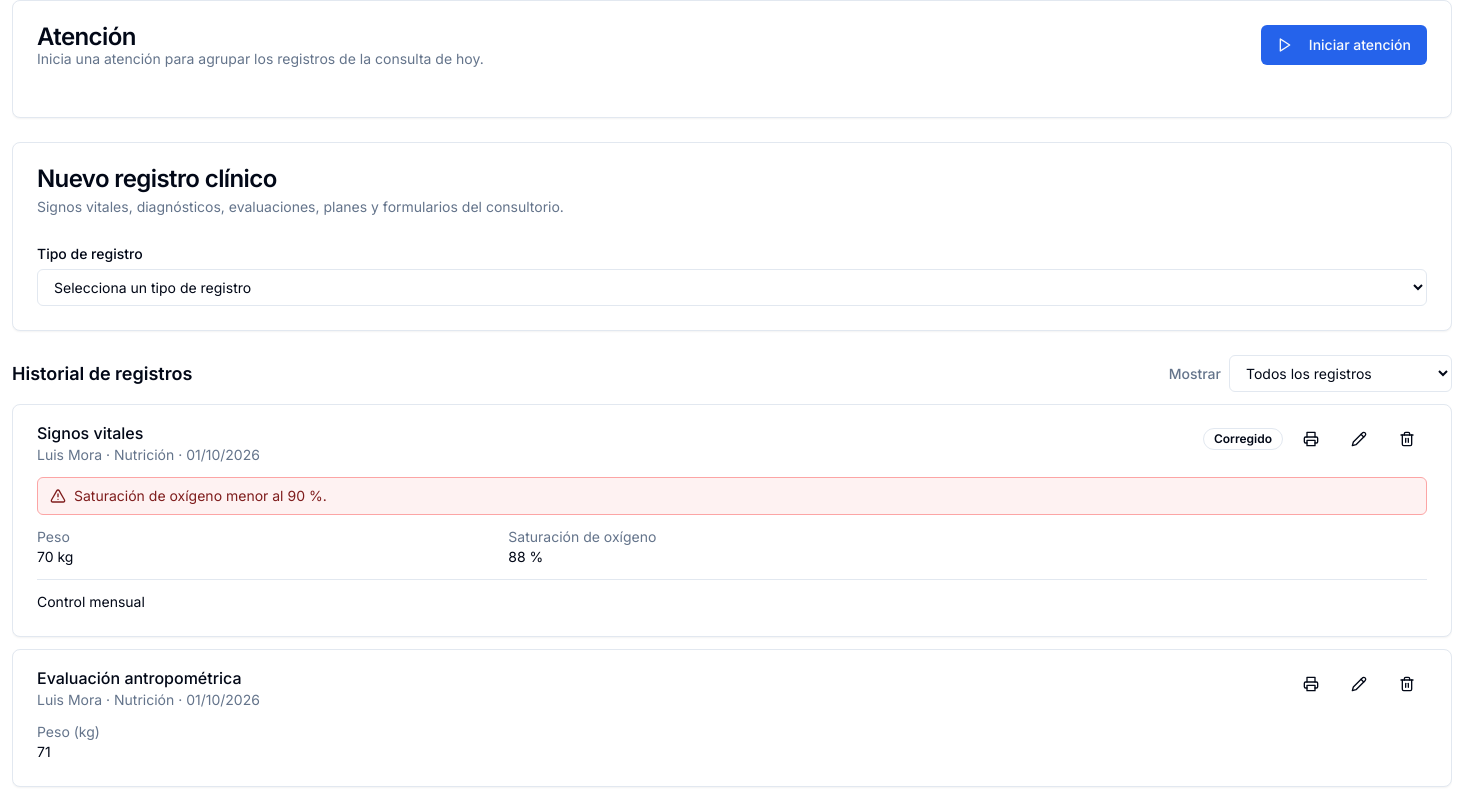
Test: ClinicalRecordsTab › marks corrected records and filters the history by module
This screenshot has width=1464, height=810.
Expected: the text "Corregido" is shown, [1203, 428, 1283, 450]
Select "Evaluación antropométrica" in the dropdown labelled "Mostrar": (1340, 374) [1229, 355, 1452, 392]
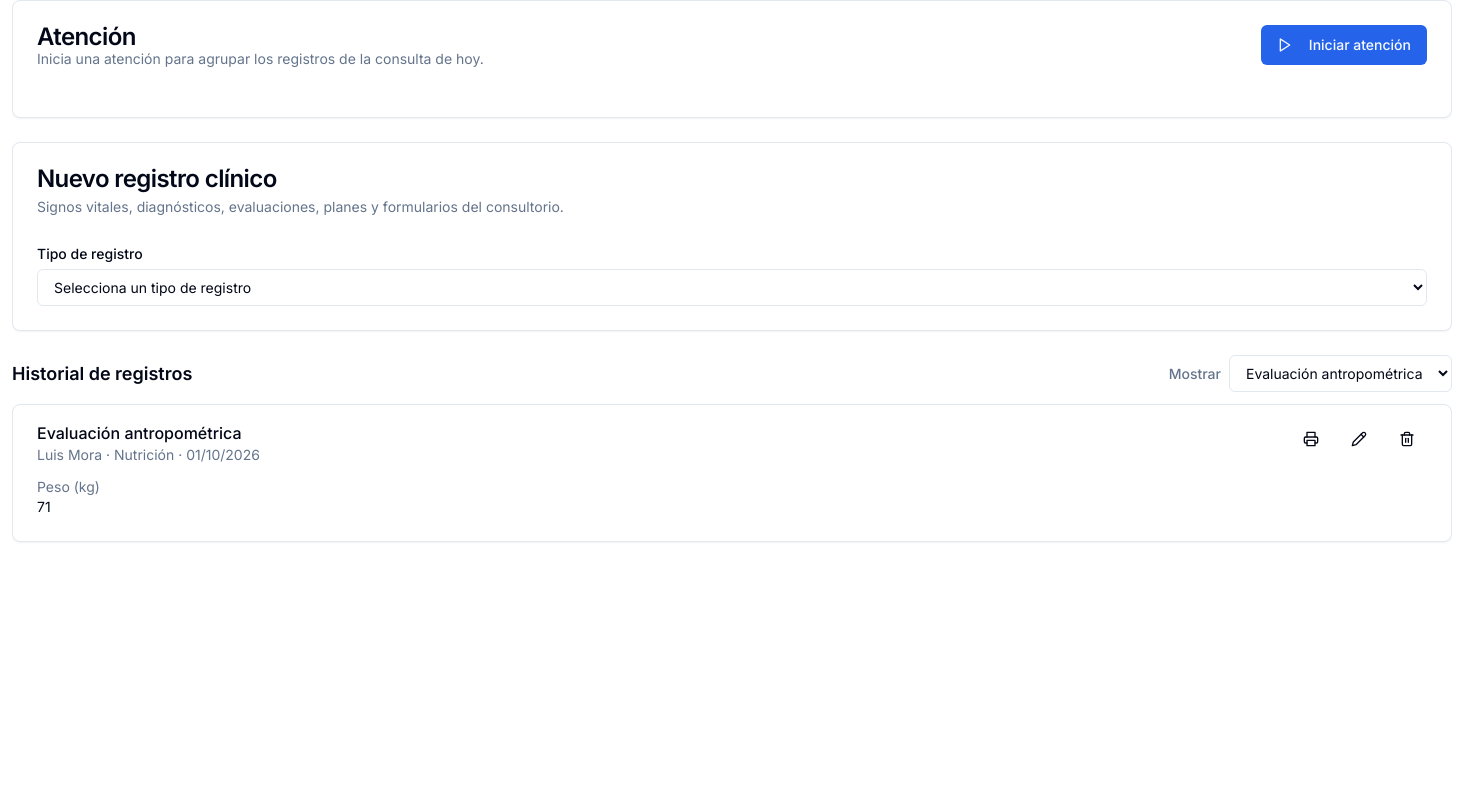
Expected: the text "71" is shown, [37, 498, 51, 515]
Now the text "Control mensual" is gone
